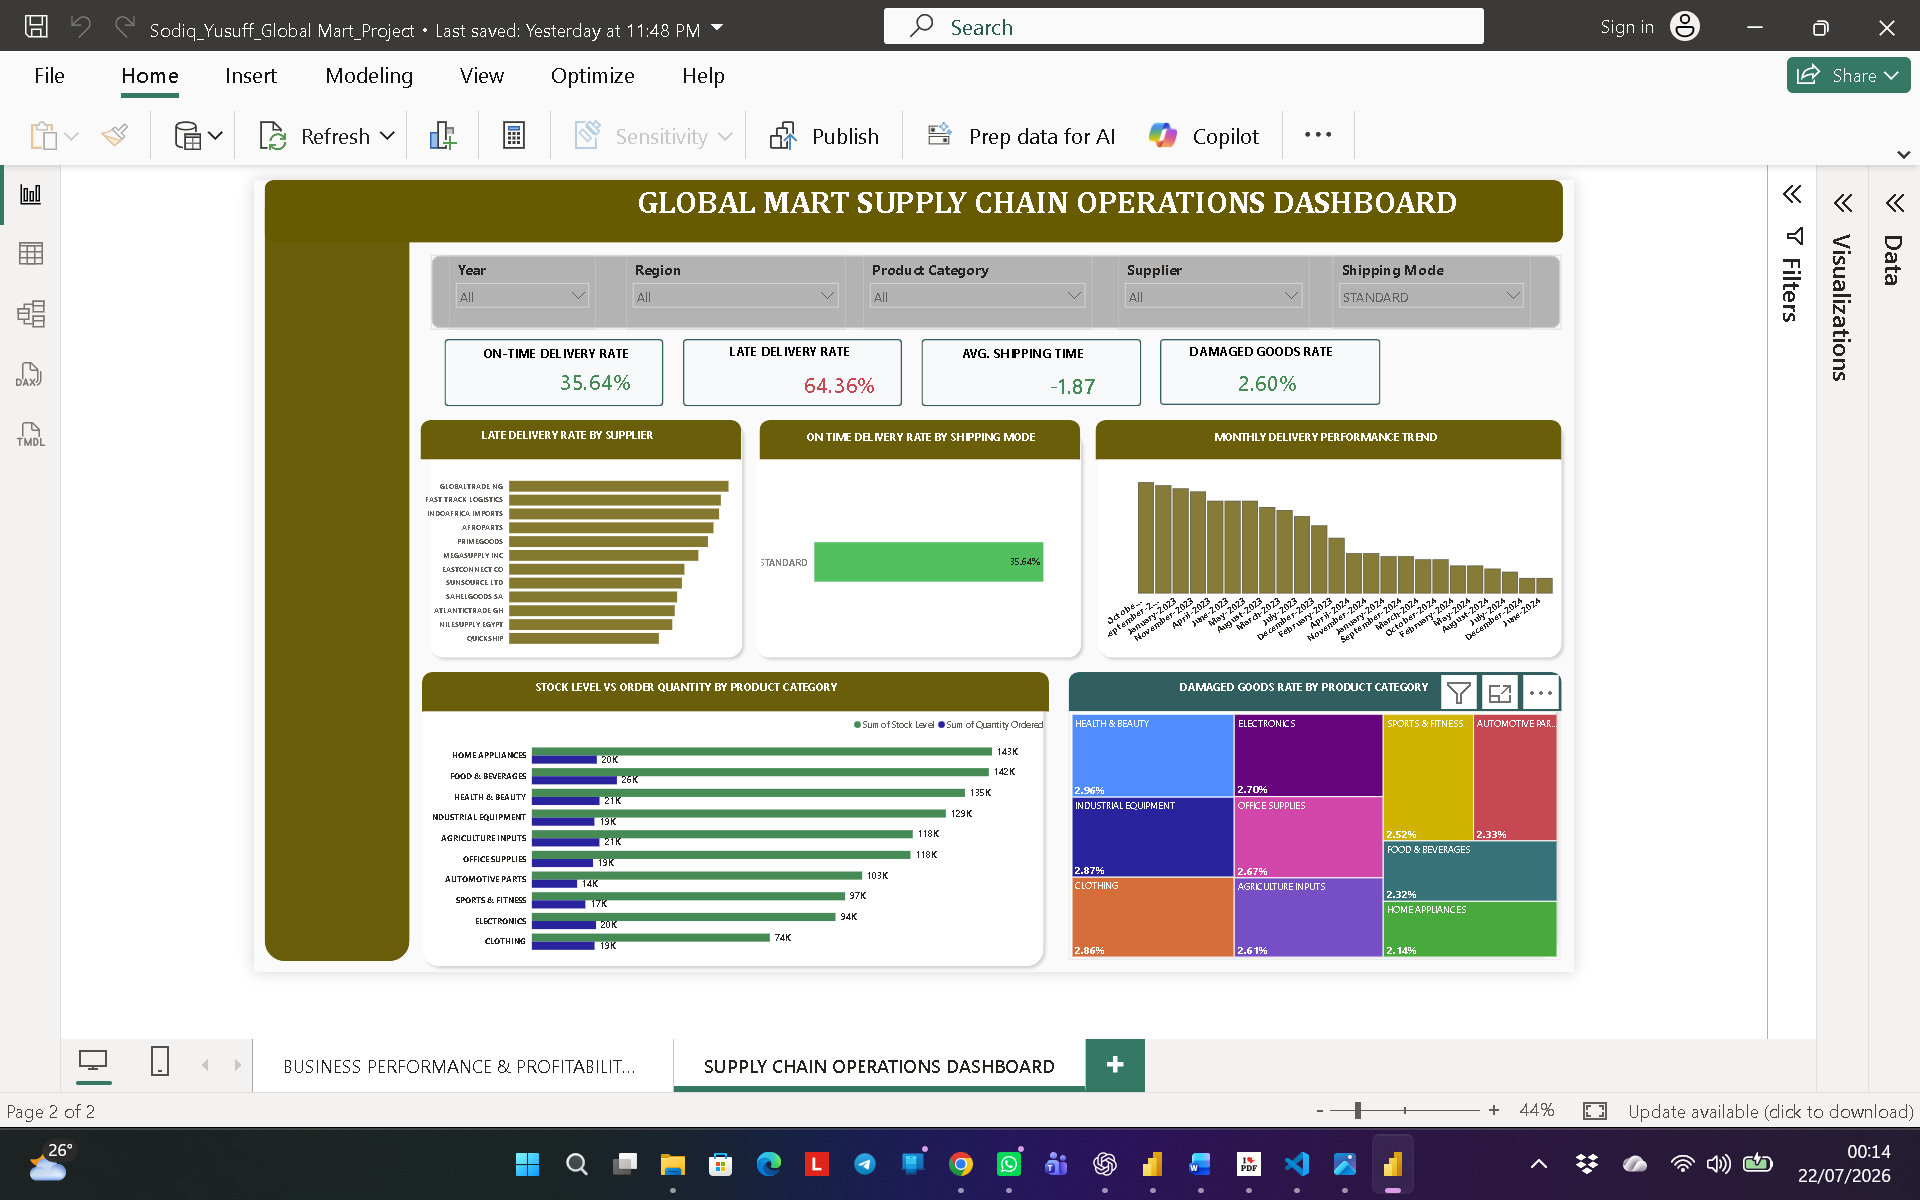

This screenshot's page, from the dashboard's own definition file:
{"tool":"powerbi","page":{"name":"SUPPLY CHAIN OPERATIONS DASHBOARD","canvas":[2000,1200],"ordinal":1},"visuals":[{"type":"shape","box":[15,12.5,220,1170],"z":0},{"type":"shape","box":[15,0,1967.5,95],"z":1000},{"type":"shape","box":[267.5,112.5,1712.5,112.5],"z":2000},{"type":"shape","box":[288.3,240,331.7,102],"z":3000},{"type":"shape","box":[256,356,492,376],"z":4000},{"type":"shape","box":[650,241,332,102],"z":5000},{"type":"shape","box":[1011,240,333,102],"z":6000},{"type":"shape","box":[1372,240,334,100],"z":7000},{"type":"textbox","box":[311.7,243.3,295,35],"z":8000},{"type":"textbox","box":[702,241,221,35],"z":9000},{"type":"textbox","box":[1023,243,287,35],"z":10000},{"type":"textbox","box":[1410,241,237,53],"z":11000},{"type":"slicer","fields":{"Values":["Calender.Year"]},"box":[295,112.5,222.5,112.5],"z":12000},{"type":"slicer","fields":{"Values":["Global Mart Clean.Region"]},"box":[562.5,112.5,332.5,112.5],"z":13000},{"type":"slicer","fields":{"Values":["Global Mart Clean.Product Category"]},"box":[922.5,112.5,347.5,112.5],"z":14000},{"type":"slicer","fields":{"Values":["Global Mart Clean.Supplier"]},"box":[1310,112.5,290,112.5],"z":15000},{"type":"slicer","fields":{"Values":["Global Mart Clean.Shipping Mode"]},"box":[1635,113,300,112],"z":16000},{"type":"cardVisual","fields":{"Data":["Measure.On-Time Deliveries Rate"]},"box":[435,268.3,185,70],"z":17000},{"type":"cardVisual","fields":{"Data":["Measure.Late Deliveries Rate"]},"box":[804,273,185,70],"z":18000},{"type":"cardVisual","fields":{"Data":["Measure.Average Shipping Time"]},"box":[1178,275,185,70],"z":19000},{"type":"cardVisual","fields":{"Data":["Measure.Damaged Goods Rate"]},"box":[1462,270,185,70],"z":20000},{"type":"barChart","fields":{"Y":["Measure.Late Deliveries Rate"],"Category":["Global Mart Clean.Supplier"]},"box":[252,434,488,282],"z":21000},{"type":"shape","box":[752,372,510,360],"z":22000},{"type":"shape","box":[1270,356,720,376],"z":23000},{"type":"shape","box":[252,364,486,60],"z":24000},{"type":"shape","box":[766,364,486,60],"z":25000},{"type":"shape","box":[1276,364,706,60],"z":26000},{"type":"textbox","box":[329,370,292,43],"z":27000},{"type":"textbox","box":[816,372,390,44],"z":28000},{"type":"barChart","fields":{"Category":["Global Mart Clean.Shipping Mode"],"Y":["Measure.On-Time Deliveries Rate"]},"box":[764,424,488,302],"z":29000},{"type":"textbox","box":[1430,372,390,44],"z":30000},{"type":"lineStackedColumnComboChart","fields":{"Category":["Calender.Year/ Month"],"Y":["Measure.Total Deliveries"]},"box":[1288,424,694,292],"z":31000},{"type":"shape","box":[245,745,960,455],"z":32000},{"type":"shape","box":[255,745,950,60],"z":33000},{"type":"shape","box":[1235,745,747.5,437.5],"z":34000},{"type":"shape","box":[1235,745,747.5,60],"z":35000},{"type":"textbox","box":[396,752,520,44],"z":36000},{"type":"textbox","box":[1332,752,520,44],"z":37000},{"type":"clusteredBarChart","fields":{"Category":["Global Mart Clean.Product Category"],"Y":["Sum(Global Mart Clean.Stock Level)","Sum(Global Mart Clean.Quantity Ordered)"]},"box":[262.5,805,942.5,377.5],"z":38000},{"type":"treemap","fields":{"Group":["Global Mart Clean.Product Category"],"Values":["Measure.Damaged Goods Rate"]},"box":[1235,805,745,377.5],"z":39000},{"type":"textbox","box":[528,0,1352,95],"z":40000},{"type":"textbox","box":[121,0,417,95],"z":41000}]}

Visuals, with their boxes on the page's 2000x1200 design canvas (x1, y1, x2, y2). These are canvas units, not pixel positions in the 1920x1200 screenshot, which may show the page scaled, cropped or inside an application window:
shape: region(15, 12, 235, 1182)
shape: region(15, 0, 1982, 95)
shape: region(268, 112, 1980, 225)
shape: region(288, 240, 620, 342)
shape: region(256, 356, 748, 732)
shape: region(650, 241, 982, 343)
shape: region(1011, 240, 1344, 342)
shape: region(1372, 240, 1706, 340)
textbox: region(312, 243, 607, 278)
textbox: region(702, 241, 923, 276)
textbox: region(1023, 243, 1310, 278)
textbox: region(1410, 241, 1647, 294)
slicer - Calender.Year: region(295, 112, 518, 225)
slicer - Global Mart Clean.Region: region(562, 112, 895, 225)
slicer - Global Mart Clean.Product Category: region(922, 112, 1270, 225)
slicer - Global Mart Clean.Supplier: region(1310, 112, 1600, 225)
slicer - Global Mart Clean.Shipping Mode: region(1635, 113, 1935, 225)
cardVisual - Measure.On-Time Deliveries Rate: region(435, 268, 620, 338)
cardVisual - Measure.Late Deliveries Rate: region(804, 273, 989, 343)
cardVisual - Measure.Average Shipping Time: region(1178, 275, 1363, 345)
cardVisual - Measure.Damaged Goods Rate: region(1462, 270, 1647, 340)
barChart - Measure.Late Deliveries Rate x Global Mart Clean.Supplier: region(252, 434, 740, 716)
shape: region(752, 372, 1262, 732)
shape: region(1270, 356, 1990, 732)
shape: region(252, 364, 738, 424)
shape: region(766, 364, 1252, 424)
shape: region(1276, 364, 1982, 424)
textbox: region(329, 370, 621, 413)
textbox: region(816, 372, 1206, 416)
barChart - Global Mart Clean.Shipping Mode x Measure.On-Time Deliveries Rate: region(764, 424, 1252, 726)
textbox: region(1430, 372, 1820, 416)
lineStackedColumnComboChart - Calender.Year/ Month x Measure.Total Deliveries: region(1288, 424, 1982, 716)
shape: region(245, 745, 1205, 1200)
shape: region(255, 745, 1205, 805)
shape: region(1235, 745, 1982, 1182)
shape: region(1235, 745, 1982, 805)
textbox: region(396, 752, 916, 796)
textbox: region(1332, 752, 1852, 796)
clusteredBarChart - Global Mart Clean.Product Category x Sum(Global Mart Clean.Stock Level): region(262, 805, 1205, 1182)
treemap - Global Mart Clean.Product Category x Measure.Damaged Goods Rate: region(1235, 805, 1980, 1182)
textbox: region(528, 0, 1880, 95)
textbox: region(121, 0, 538, 95)
